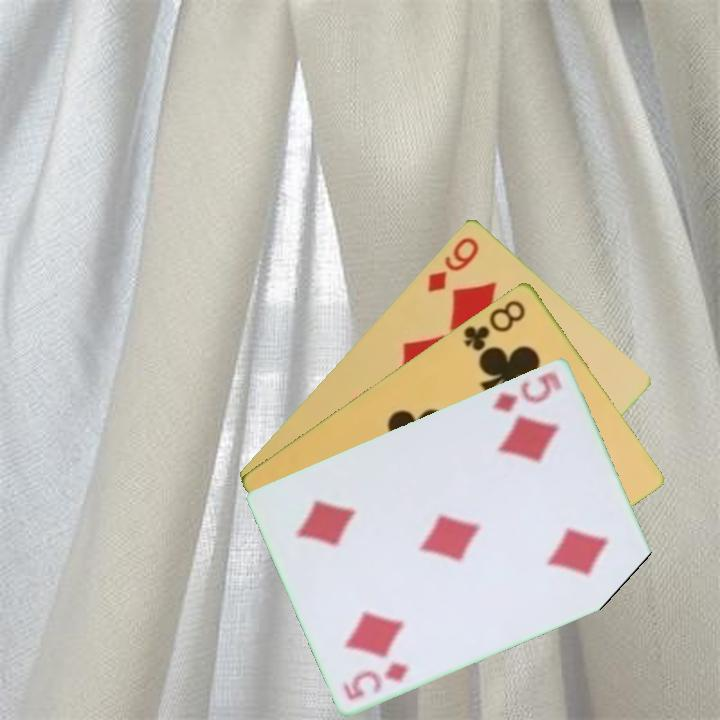5d: (488, 367, 566, 414), (340, 656, 412, 704)
8c: (460, 295, 529, 354)
9d: (423, 233, 482, 295)
